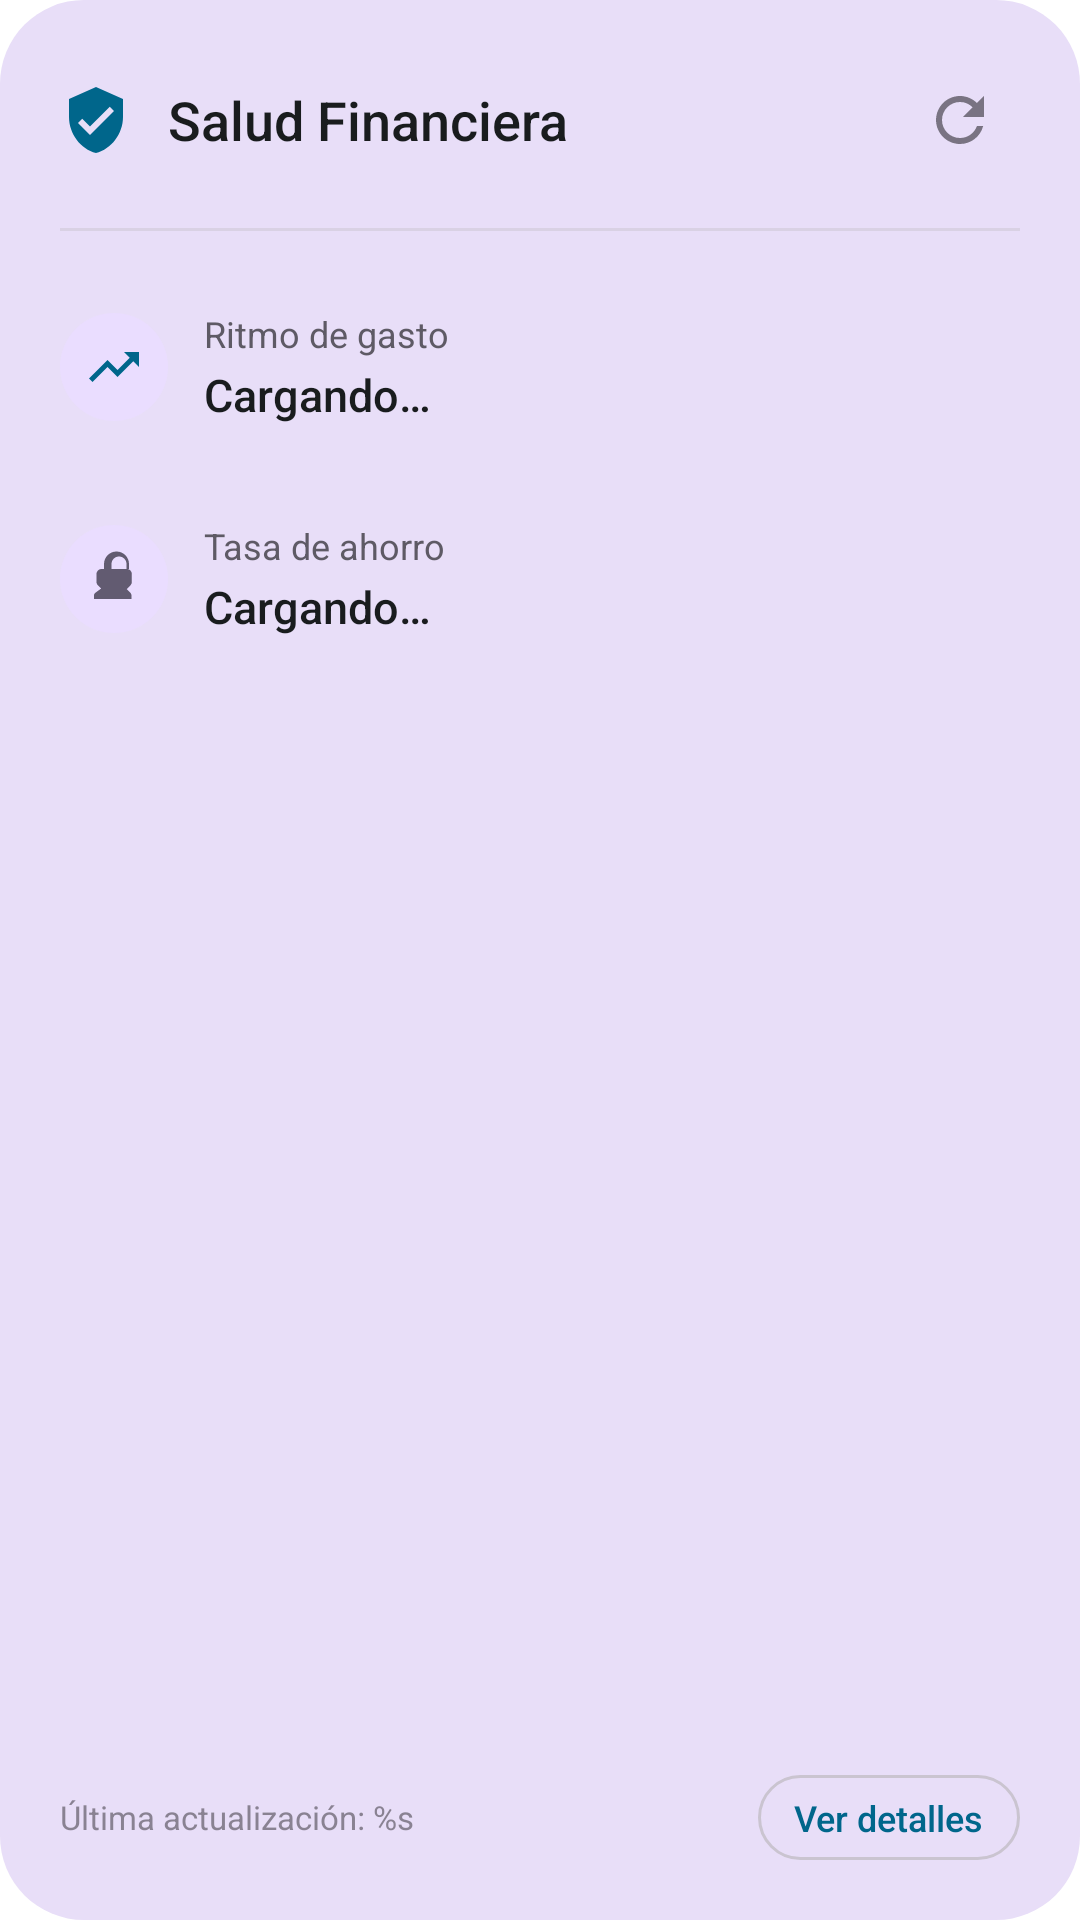

Where to tap for icons on this 1080x1920 app screen, as (x=x, y=y):
Actualizar datos: (x=960, y=120)
trending up: (x=114, y=367)
